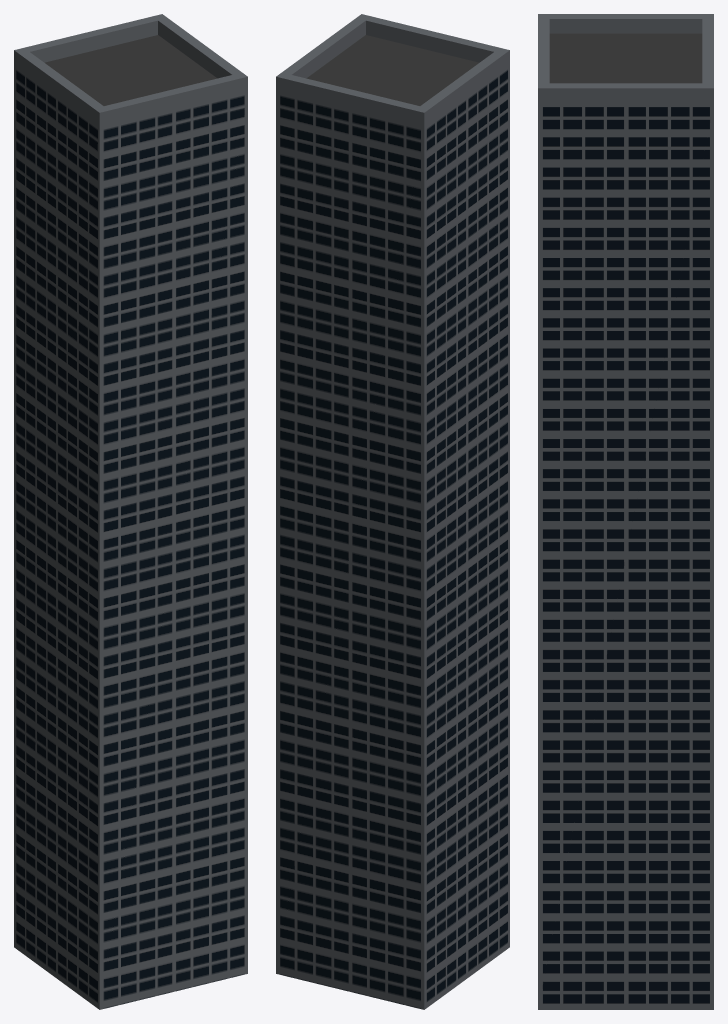
Rendered from SM_Env_Background_Building_Small_01.fbx.
3 renders of one model, left to right at view 1: azimuth 30°, elevation 25°; view 2: azimuth 150°, elevation 25°; view 3: azimuth 270°, elevation 25°, orthographic. The views are drawn at different scales.
Parts seen in each view (by area): view 1: SM_Env_Background_Building_Small_01; view 2: SM_Env_Background_Building_Small_01; view 3: SM_Env_Background_Building_Small_01.
Boxes of the visible parts, box(x1,y1,x2,y2) form: SM_Env_Background_Building_Small_01: box(14, 14, 247, 1009); SM_Env_Background_Building_Small_01: box(276, 14, 509, 1009); SM_Env_Background_Building_Small_01: box(538, 14, 713, 1009).
Size of the model in its own units: 1269 by 7335 by 1269.
